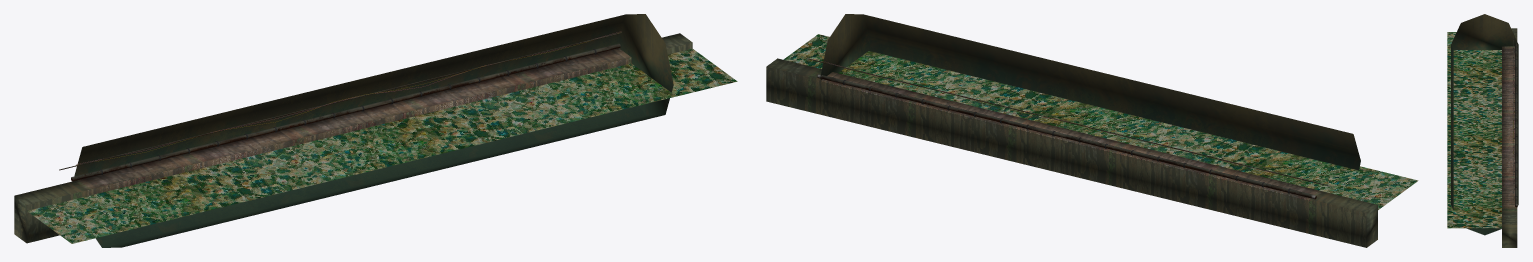
File: sewer_V1.glb
3 renders of one model, left to right at view 1: azimuth 30°, elevation 25°; view 2: azimuth 150°, elevation 25°; view 3: azimuth 270°, elevation 25°, orthographic. The views are drawn at different scales.
Visible parts, largest first — view 1: Cylinder.014; view 2: Cylinder.014; view 3: Cylinder.014.
Boxes of the visible parts, bbox=[...] form: Cylinder.014: bbox=[14, 14, 737, 247]; Cylinder.014: bbox=[766, 14, 1418, 247]; Cylinder.014: bbox=[1447, 14, 1518, 247].
Bounding box in the file's own units: 131 × 19.03 × 20.05.
Materials: 5 (3 with a texture image).
